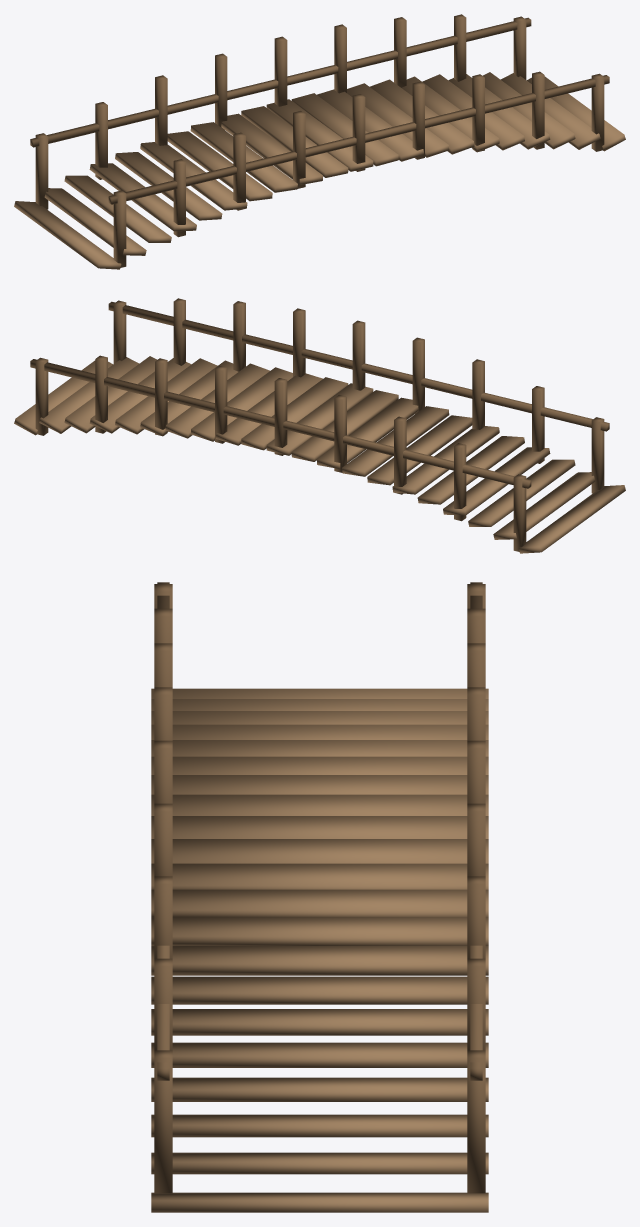
File: Prop_WoodenArchBridge_Hybrid.glb
3 views of the same model, one above another, from view 1: azimuth 30°, elevation 25°; view 2: azimuth 150°, elevation 25°; view 3: azimuth 270°, elevation 25° (orthographic). The views are drawn at different scales.
Parts seen in each view (by area): view 1: BRail_1.02, BRail_-1.02, Plank_-10, Plank_-1, Plank_-3, Plank_1, Plank_-4, Plank_-8, Plank_-2, Plank_-6, Plank_-7, Plank_-5 (+29 smaller); view 2: BRail_-1.02, BRail_1.02, Plank_-10, Plank_-1, Plank_-3, Plank_1, Plank_-4, Plank_-8, Plank_-2, Plank_-6, Plank_-7, Plank_-5 (+29 smaller); view 3: Plank_3, Plank_2, Plank_4, Plank_1, Plank_5, Plank_0, Plank_6, Plank_-1, Plank_7, Plank_8, Plank_10, Plank_-2 (+25 smaller).
Boxes of the visible parts, x1,y1,x2,y2 form: BRail_1.02: [30, 17, 531, 147]; BRail_-1.02: [108, 75, 609, 204]; Plank_-10: [14, 201, 121, 269]; Plank_-1: [241, 106, 348, 177]; Plank_-3: [190, 122, 297, 192]; Plank_1: [291, 93, 398, 166]; Plank_-4: [167, 131, 272, 201]; Plank_-8: [64, 175, 171, 242]; Plank_-2: [221, 113, 322, 184]; Plank_-6: [115, 152, 222, 220]; Plank_-7: [89, 163, 196, 231]; Plank_-5: [140, 142, 247, 210]; BRail_-1.02: [108, 301, 609, 431]; BRail_1.02: [30, 359, 531, 488]; Plank_-10: [518, 485, 625, 553]; Plank_-1: [291, 390, 398, 461]; Plank_-3: [342, 406, 449, 476]; Plank_1: [241, 377, 348, 450]; Plank_-4: [367, 415, 472, 485]; Plank_-8: [468, 459, 575, 526]; Plank_-2: [317, 397, 418, 468]; Plank_-6: [417, 436, 524, 504]; Plank_-7: [443, 447, 550, 515]; Plank_-5: [392, 426, 499, 494]; Plank_3: [151, 946, 488, 975]; Plank_2: [151, 917, 488, 945]; Plank_4: [151, 976, 488, 1004]; Plank_1: [151, 889, 488, 916]; Plank_5: [151, 1009, 488, 1035]; Plank_0: [151, 863, 488, 889]; Plank_6: [151, 1042, 488, 1067]; Plank_-1: [151, 839, 488, 863]; Plank_7: [151, 1077, 488, 1101]; Plank_8: [151, 1114, 488, 1137]; Plank_10: [151, 1192, 488, 1212]; Plank_-2: [151, 816, 488, 838].
Size of the model in its own units: 7.95 by 1.61 by 2.2.
